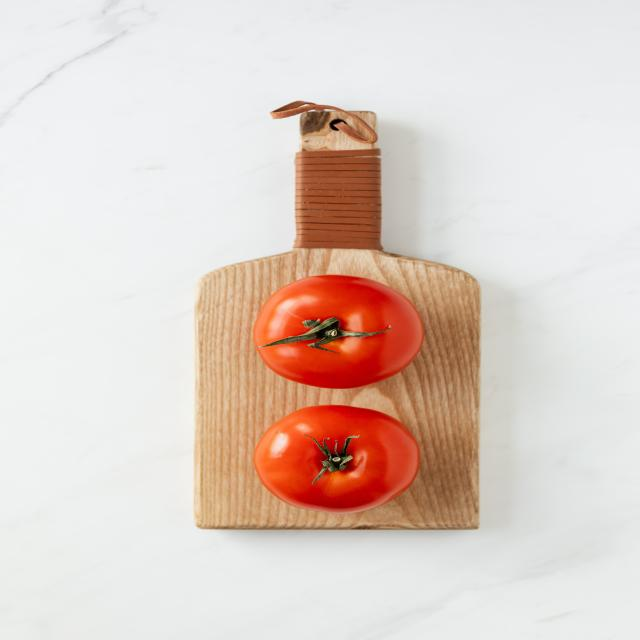Tomato: (243, 401, 420, 515), (256, 276, 429, 388)
